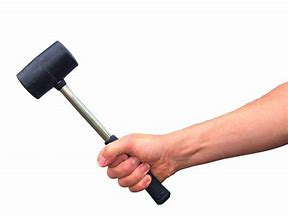hammer: (15, 40, 172, 206)
